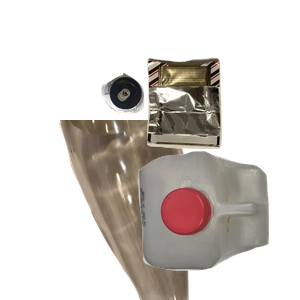glass: (56, 120, 241, 300)
metal: (99, 70, 236, 176)
plastic: (136, 149, 300, 300)
trash: (144, 55, 300, 197)
